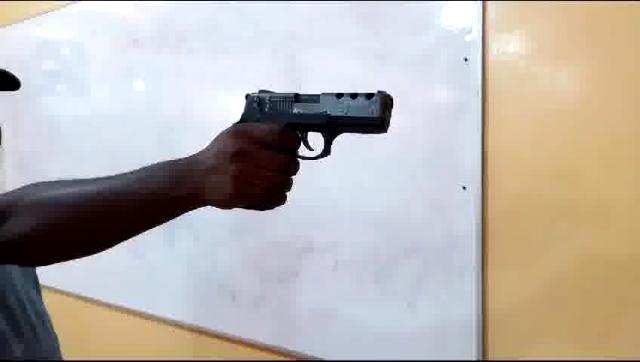pistol: (237, 89, 393, 161)
